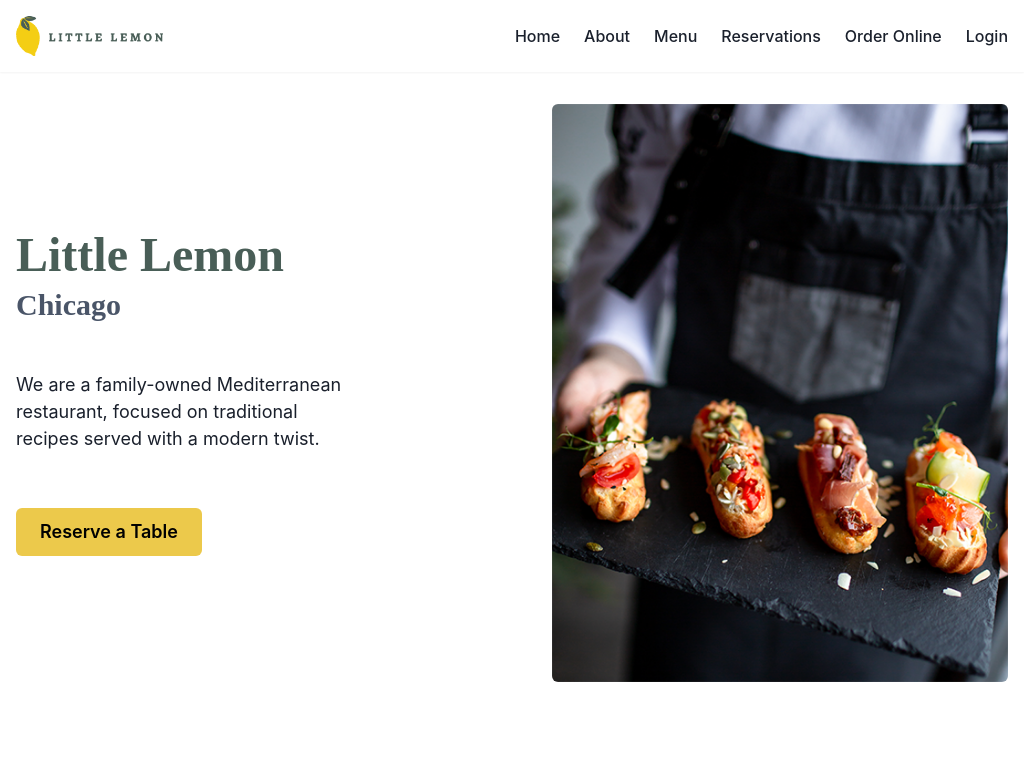
Test: App Component › Reserve a Table button navigates to Reservations page
Click the button "Reserve a Table": point(109, 532) left=16, top=508, right=202, bottom=556
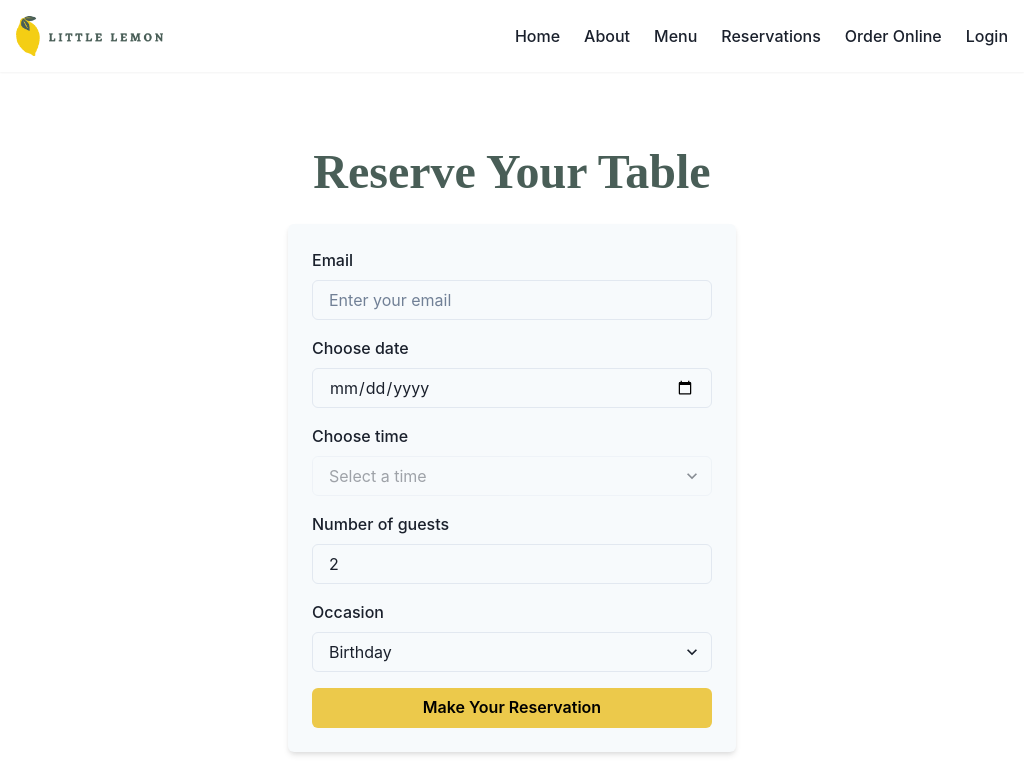
Expected: the heading "Reserve Your Table" is shown, left=313, top=145, right=711, bottom=198
